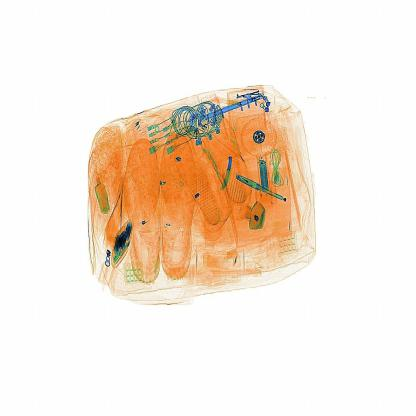wrench: (216, 142, 239, 202)
